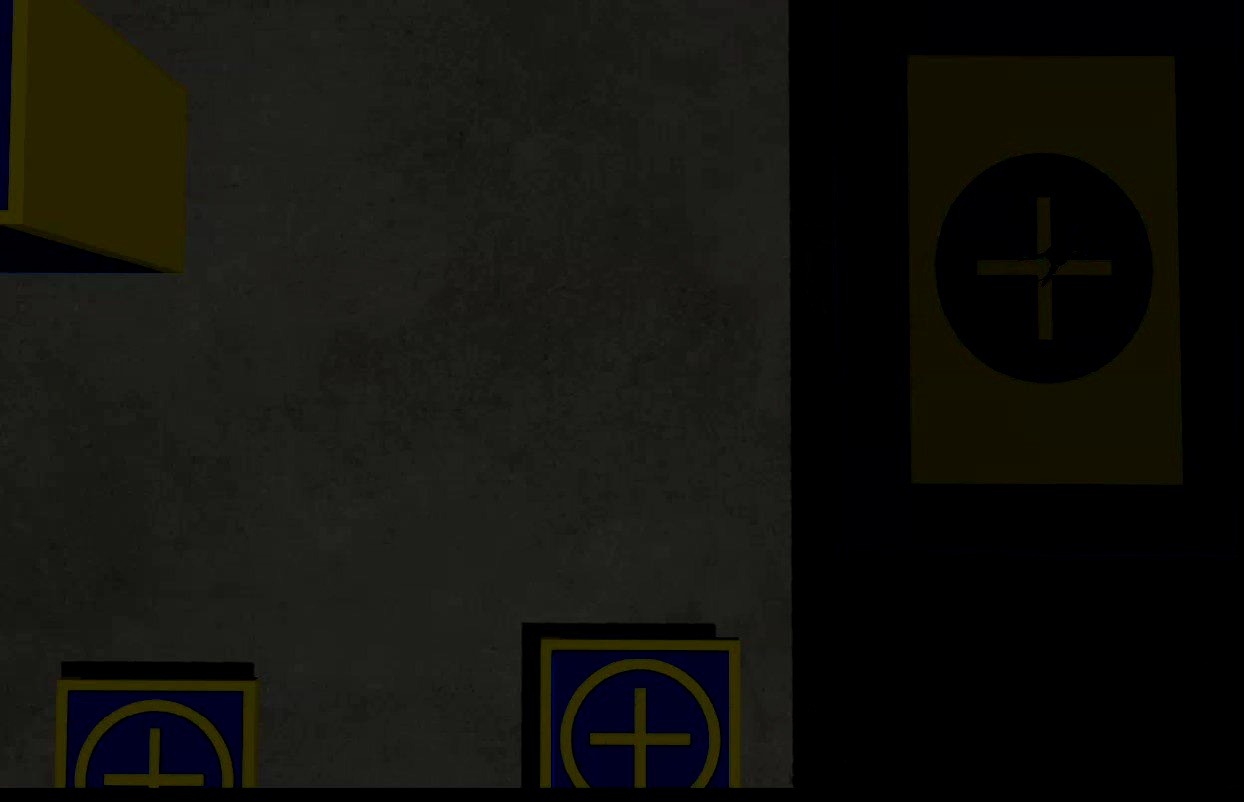large_base: (836, 1, 1242, 549)
small_base: (539, 636, 740, 791), (64, 680, 259, 789)
